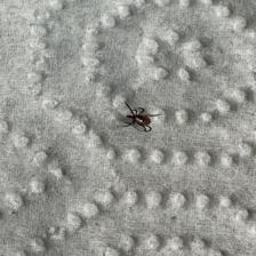Ixodes scapularis: (121, 101, 158, 132)
